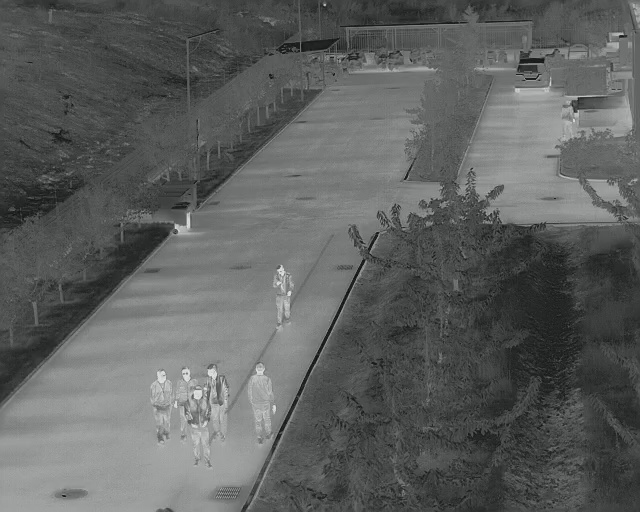person: (182, 386, 213, 469), (245, 363, 276, 445), (203, 363, 229, 442), (148, 366, 173, 446), (271, 262, 296, 331)
vehicle: (514, 56, 555, 97)
